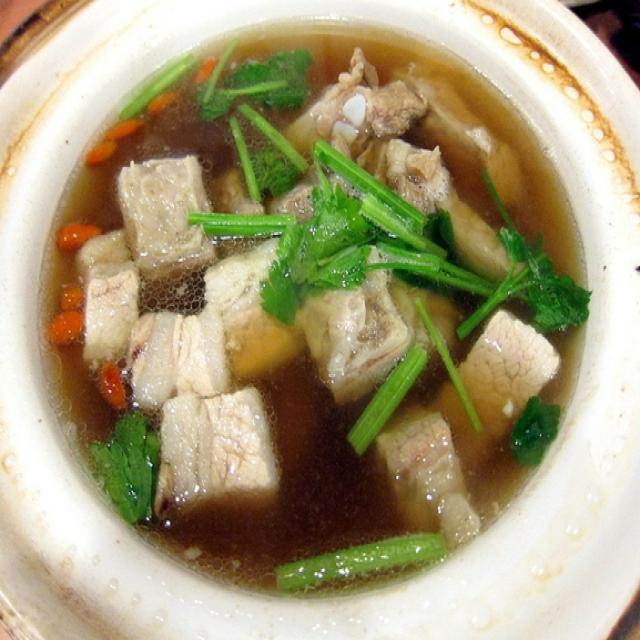汤锅炖物: (14, 20, 604, 620)
